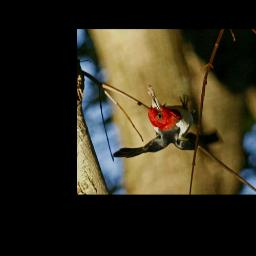Woodpecker: (107, 83, 222, 165)
